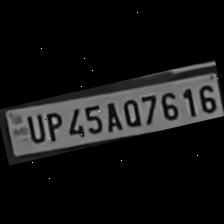1: (176, 84, 200, 120)
4: (59, 103, 85, 139)
5: (78, 100, 106, 136)
6: (152, 86, 180, 122), (192, 79, 218, 116)
7: (136, 91, 160, 127)
A: (98, 96, 123, 132)
P: (40, 106, 67, 142)
Q: (117, 93, 144, 129)
U: (21, 110, 48, 146)
